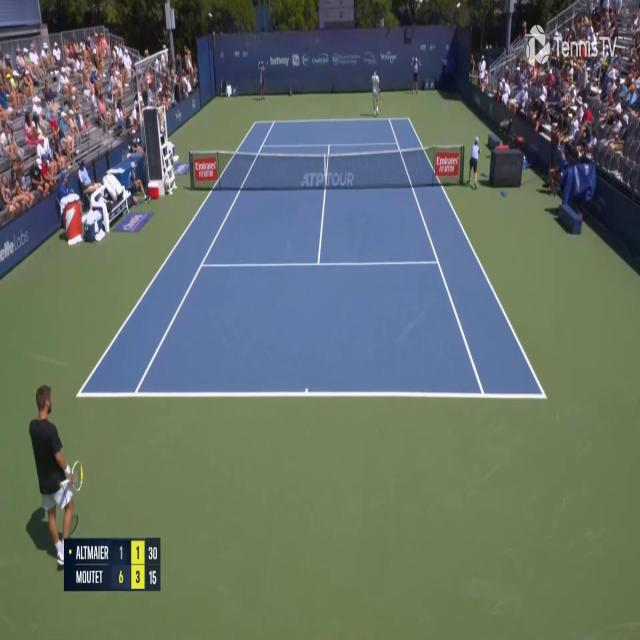tennis-player: (24, 378, 85, 564), (369, 69, 382, 116)
